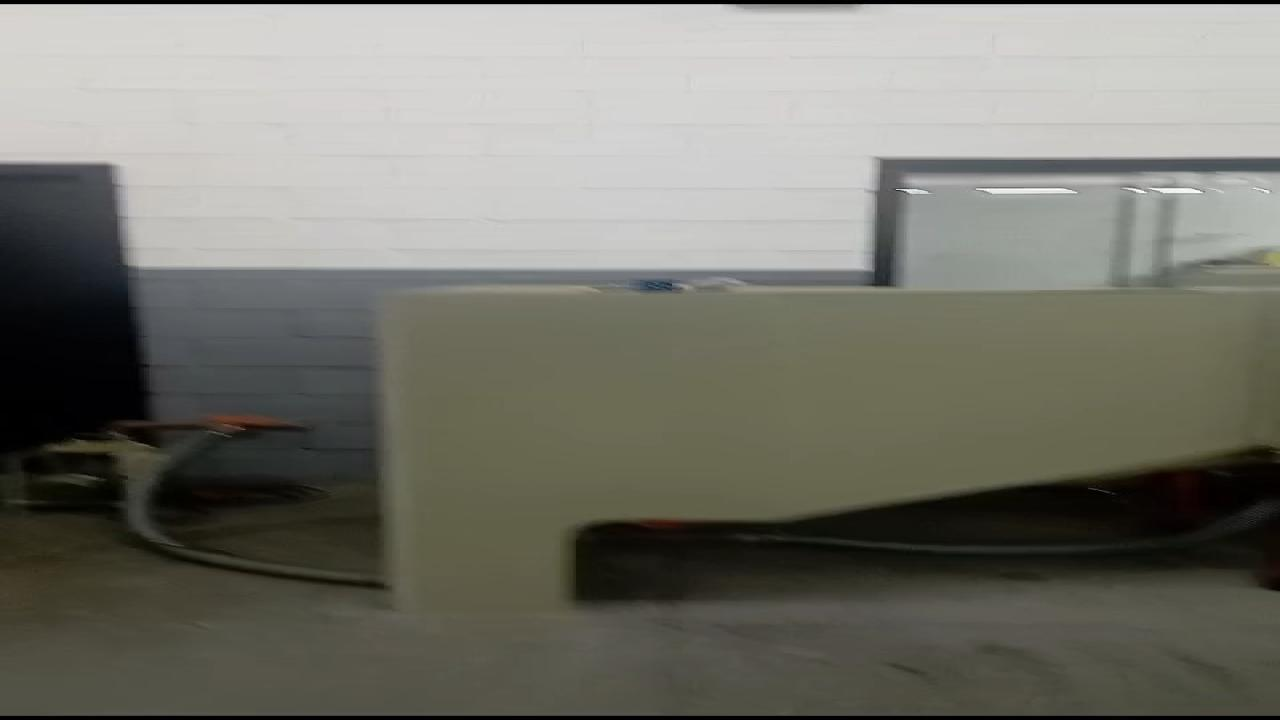Cube: (632, 279, 678, 292)
